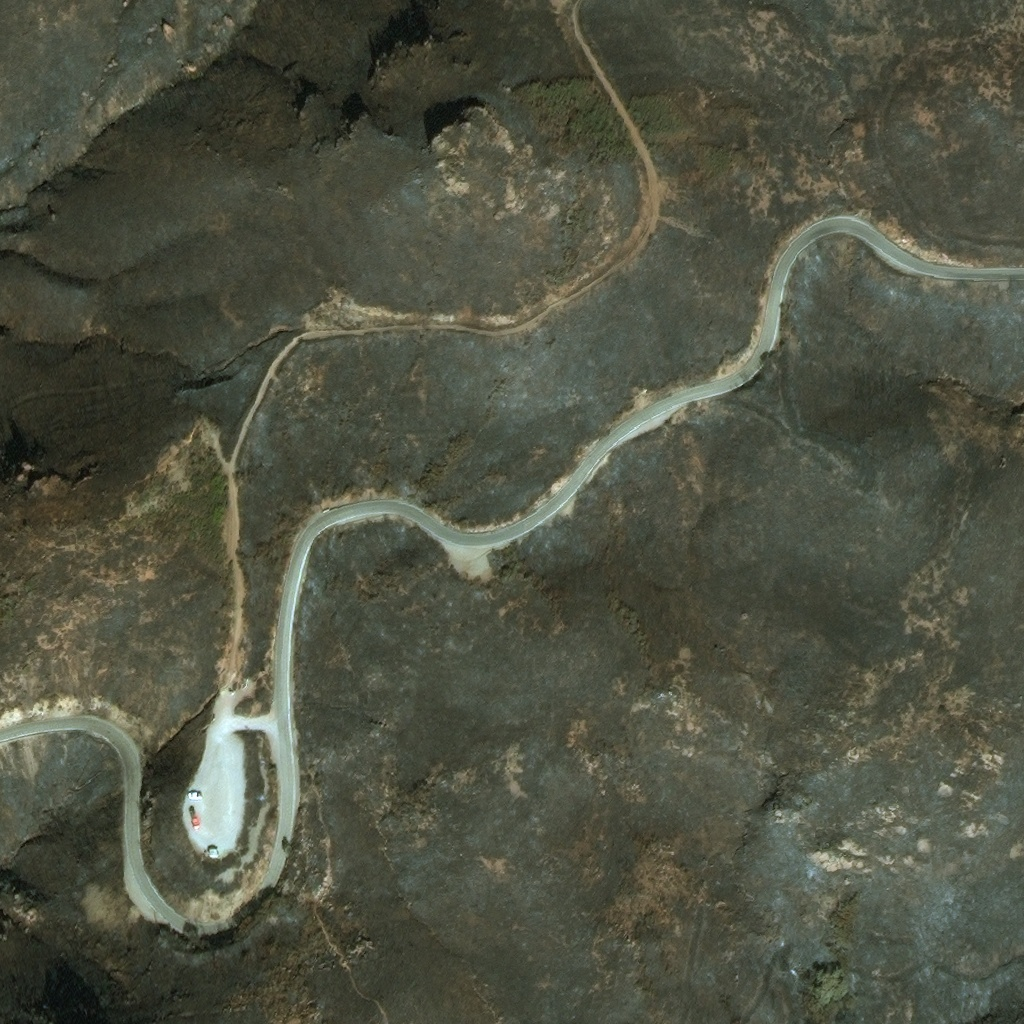0 no-damage: (208, 851, 218, 856)
